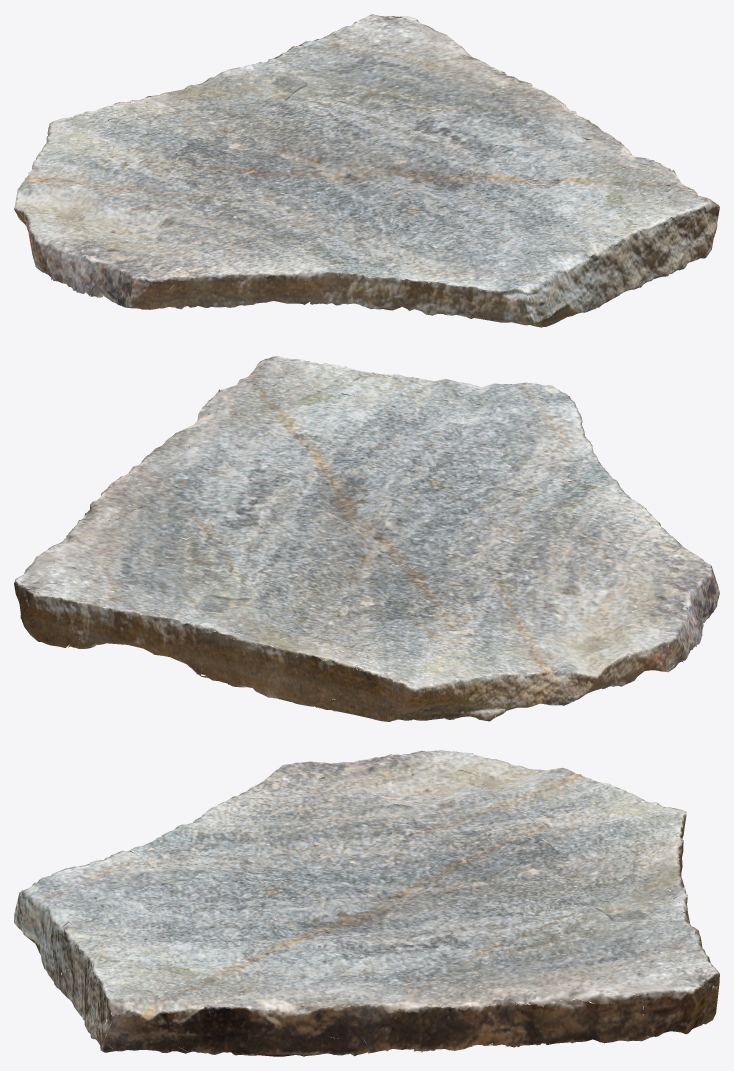
The model's file is Rock_2.glb.
3 renders of one model, top to bottom at view 1: azimuth 30°, elevation 25°; view 2: azimuth 150°, elevation 25°; view 3: azimuth 270°, elevation 25°, orthographic. The views are drawn at different scales.
Parts seen in each view (by area): view 1: Object_2.002; view 2: Object_2.002; view 3: Object_2.002.
Boxes of the visible parts, left/top/right/bottom form: Object_2.002: left=14, top=14, right=719, bottom=327; Object_2.002: left=14, top=356, right=719, bottom=721; Object_2.002: left=14, top=750, right=719, bottom=1056.
Size of the model in its own units: 0.504 by 0.0565 by 0.5329.
Materials: 1 (1 with a texture image).
